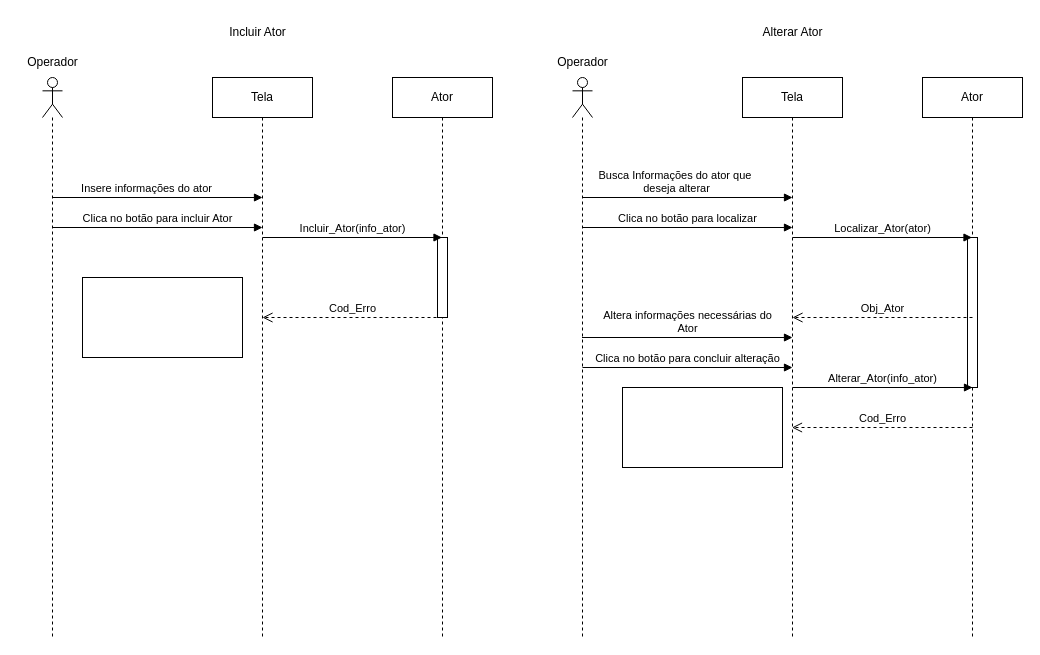
Image size: 1040x655. Some labels were removed from this diagram. The shapes that lost their labels are listed below. From the top down, each one's centre as x and y in pixels, then its label:
At (x=162, y=317): "Se Cod_Erro = 0, ator incluido com sucesso, se não, tratar erro".
At (x=702, y=427): "Se Cod_Erro = 0, ator alterado com sucesso, se não, tratar erro".
